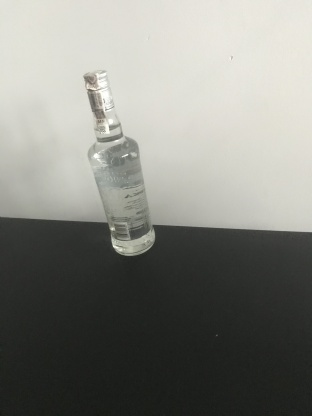nakretka: (81, 69, 115, 115)
